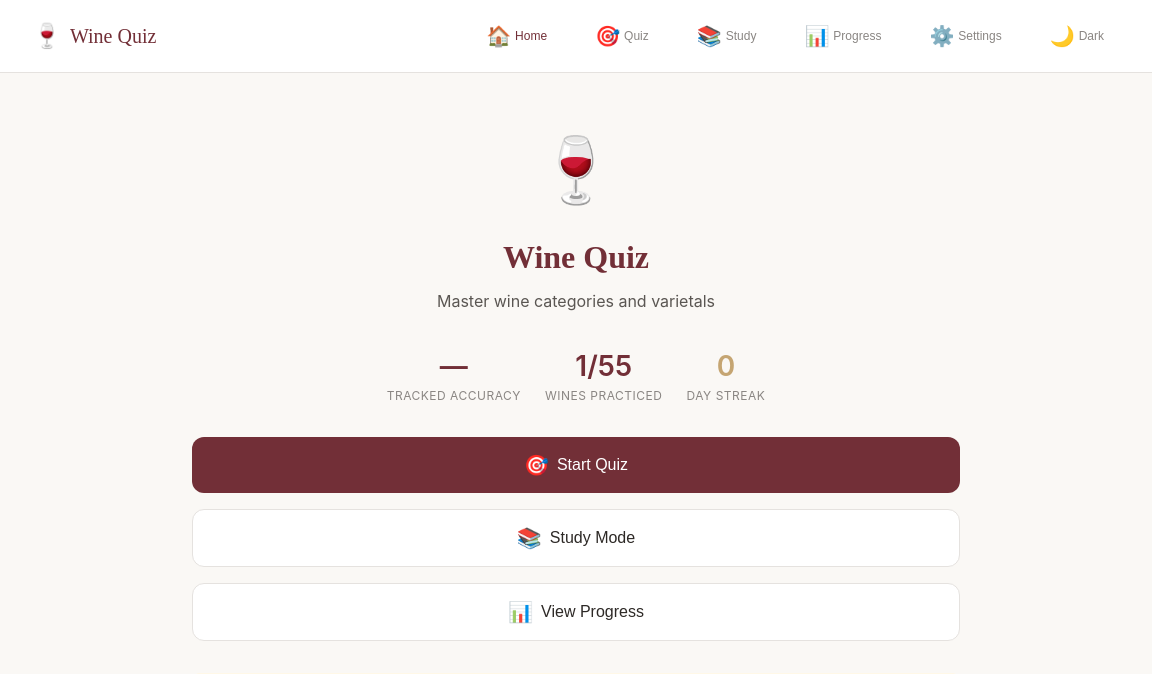
App quiz navigation › returns to Home and resets the quiz route
The width and height of the screenshot is (1152, 674).
Step 1. Click the button "🎯 Quiz" → (622, 36), box [579,16,665,56]
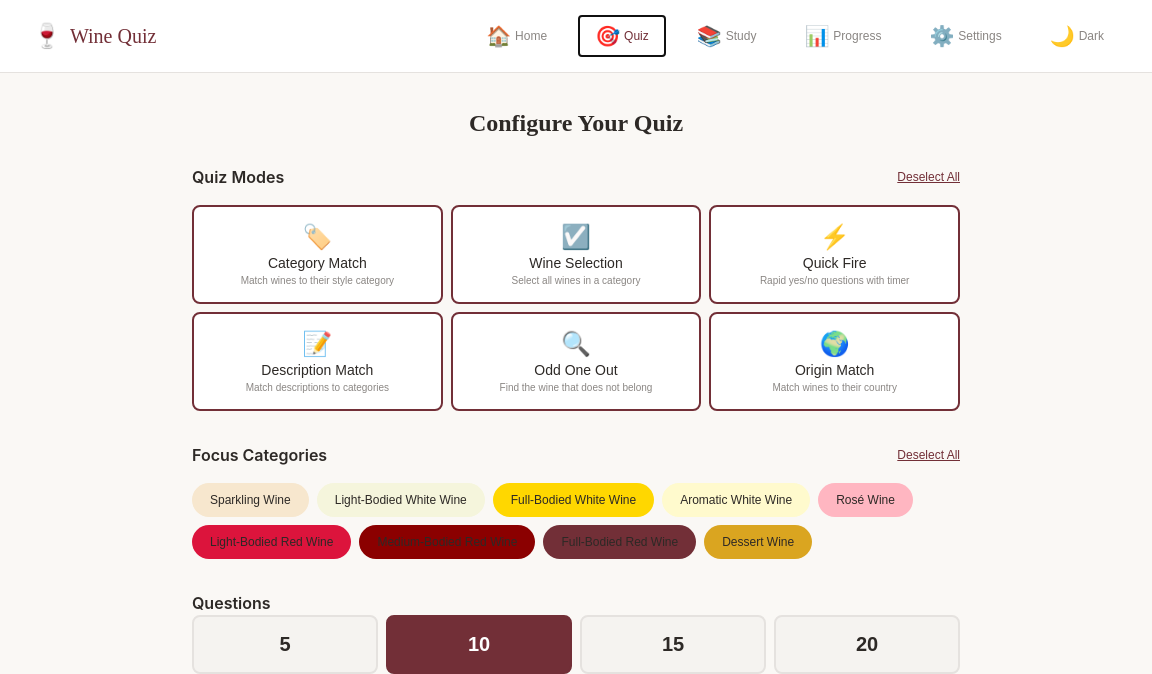
Step 2. Click the button "🏠 Home" → (517, 36), box [470,16,563,56]
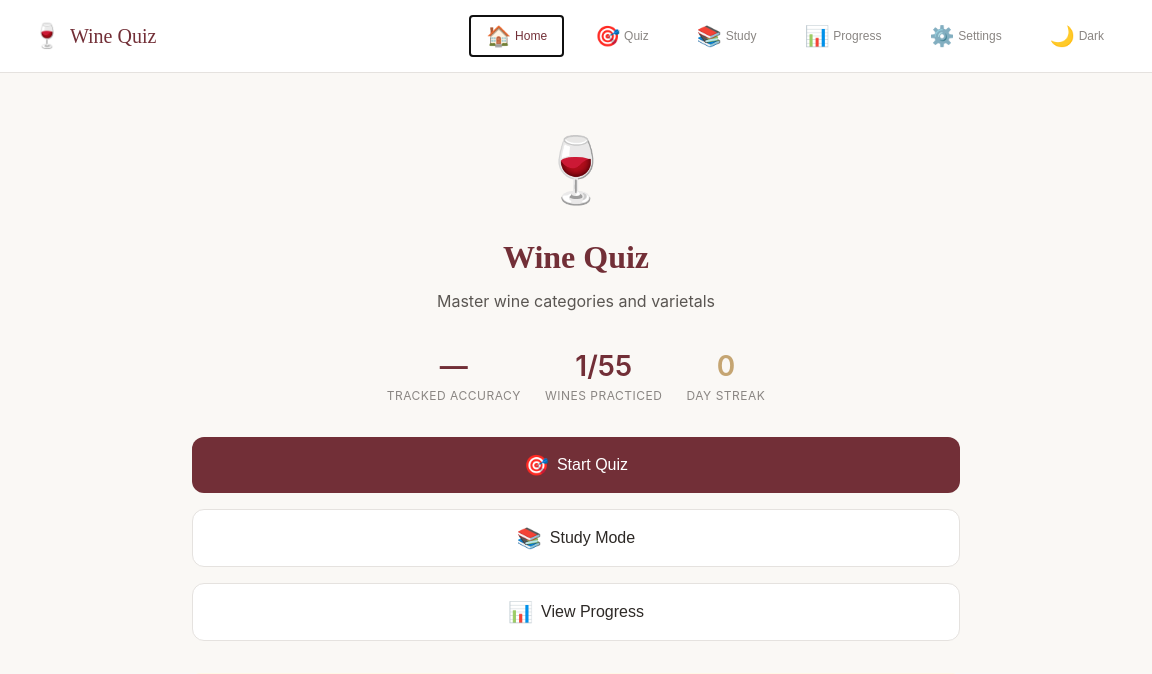
Result: the heading "Wine Quiz" is shown at [503,239,649,275]
